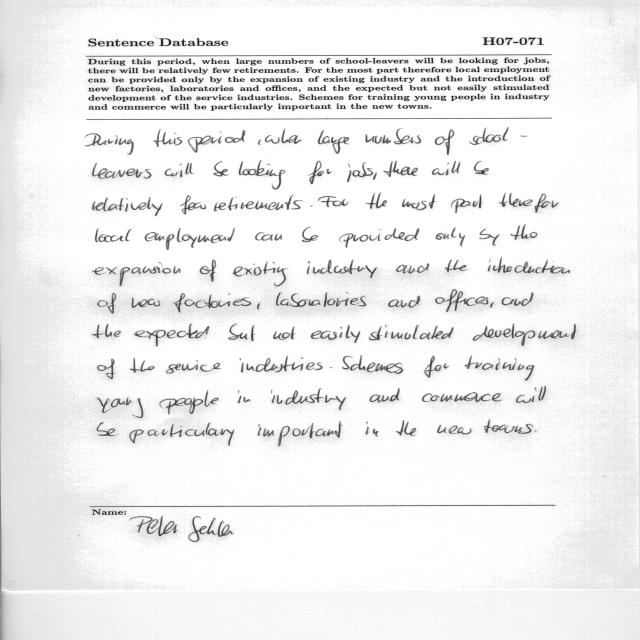word: (130, 423, 235, 446), (473, 324, 577, 346), (93, 262, 181, 286), (258, 422, 342, 447), (145, 228, 235, 250), (134, 324, 209, 347), (465, 356, 534, 380), (271, 388, 346, 410), (339, 228, 419, 248), (173, 294, 251, 313), (160, 390, 219, 415), (214, 195, 303, 211), (239, 160, 286, 190), (276, 292, 366, 307), (93, 197, 163, 216), (240, 356, 323, 372), (488, 258, 570, 274), (188, 130, 245, 153), (232, 262, 286, 286), (369, 325, 454, 340), (307, 260, 377, 278), (436, 289, 489, 312), (342, 355, 403, 374), (499, 193, 559, 212), (85, 133, 134, 155), (470, 127, 528, 145), (93, 163, 152, 179), (98, 398, 144, 418), (311, 325, 360, 343), (365, 129, 421, 144), (422, 392, 501, 402), (318, 130, 349, 154), (484, 419, 533, 434), (166, 361, 221, 374), (383, 161, 418, 177), (451, 195, 482, 213), (308, 161, 332, 184), (424, 356, 449, 378), (265, 129, 301, 144), (436, 228, 465, 246), (347, 162, 373, 182), (402, 195, 436, 210), (516, 386, 546, 403), (154, 129, 182, 147), (435, 129, 454, 155), (180, 196, 206, 215), (96, 229, 132, 242), (228, 324, 255, 341), (502, 292, 534, 306), (511, 224, 538, 240), (370, 389, 400, 403), (165, 163, 194, 177), (92, 324, 121, 338), (432, 161, 460, 175), (388, 296, 420, 308), (130, 358, 155, 373), (98, 293, 116, 313), (200, 260, 216, 282), (480, 229, 500, 246), (98, 359, 115, 379), (366, 193, 387, 209), (318, 196, 348, 207), (396, 264, 429, 274), (396, 420, 416, 436), (132, 297, 160, 308), (438, 425, 472, 434), (445, 260, 467, 273), (273, 327, 295, 340), (97, 422, 115, 436), (255, 232, 282, 241), (213, 162, 229, 177), (302, 227, 318, 242), (474, 161, 489, 175), (366, 422, 378, 437), (238, 390, 250, 403), (373, 173, 377, 180), (490, 302, 494, 308), (258, 139, 261, 145), (257, 304, 260, 310), (311, 205, 313, 207), (330, 367, 332, 368), (535, 431, 537, 432)
